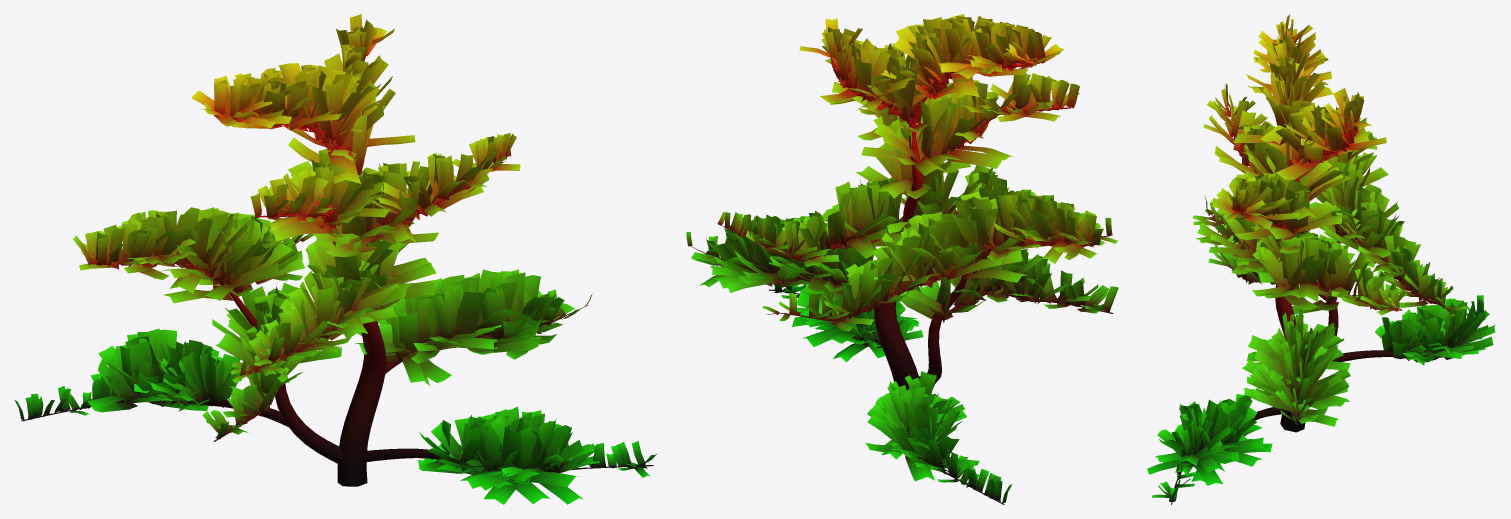
The model's file is PineSmall.fbx.
The picture shows the model from 3 angles, left to right: view 1: azimuth 30°, elevation 25°; view 2: azimuth 150°, elevation 25°; view 3: azimuth 270°, elevation 25°; orthographic projection. The views are drawn at different scales.
Visible parts, largest first — view 1: part_main; view 2: part_main; view 3: part_main.
Boxes of the visible parts, left/top/right/bottom form: part_main: left=14, top=14, right=656, bottom=504; part_main: left=686, top=14, right=1118, bottom=504; part_main: left=1147, top=14, right=1495, bottom=504.
Size of the model in its own units: 370 by 318 by 282.
